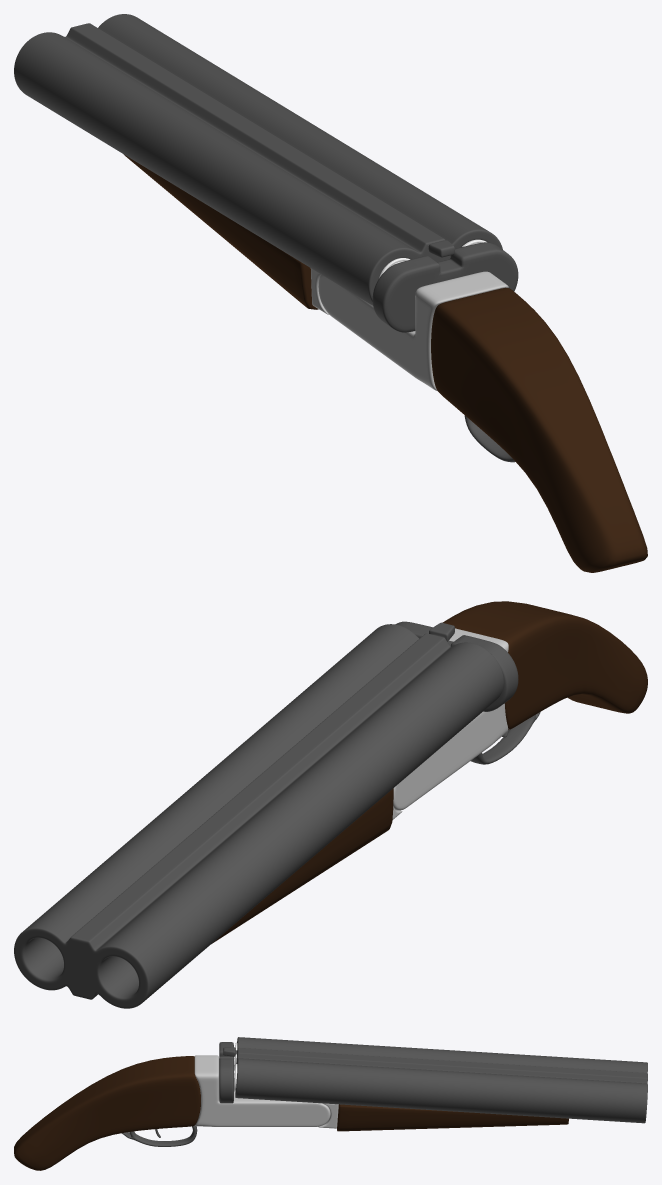
Rendered from SHOTGUNPLACEHHOLDERV2.fbx.
The picture shows the model from 3 angles, top to bottom: view 1: azimuth 30°, elevation 25°; view 2: azimuth 150°, elevation 25°; view 3: azimuth 270°, elevation 25°; orthographic projection. The views are drawn at different scales.
Visible parts, largest first — view 1: Circle.001, HANDLE, Circle.003, Circle.004, Circle.005; view 2: Circle.001, HANDLE, Circle.003, Circle.005, Circle.004, Circle.009; view 3: Circle.001, HANDLE, Circle.003, Circle.005, Circle.004, Circle.009, WEAPON_OPEN.
Boxes of the visible parts, <box> form: Circle.001: <box>14,14,502,305</box>; HANDLE: <box>431,287,647,572</box>; Circle.003: <box>318,271,508,390</box>; Circle.004: <box>372,242,518,332</box>; Circle.005: <box>124,154,318,309</box>; Circle.001: <box>14,622,503,1008</box>; HANDLE: <box>442,601,647,729</box>; Circle.003: <box>393,628,508,810</box>; Circle.005: <box>212,788,393,943</box>; Circle.004: <box>395,621,518,711</box>; Circle.009: <box>471,712,540,764</box>; Circle.001: <box>223,1037,647,1123</box>; HANDLE: <box>14,1056,200,1170</box>; Circle.003: <box>194,1055,330,1126</box>; Circle.005: <box>337,1104,568,1131</box>; Circle.004: <box>219,1042,233,1103</box>; Circle.009: <box>122,1125,197,1146</box>; WEAPON_OPEN: <box>318,1103,338,1128</box>.
Size of what is drawn, in the model's own units: 213 by 302 by 1503.
